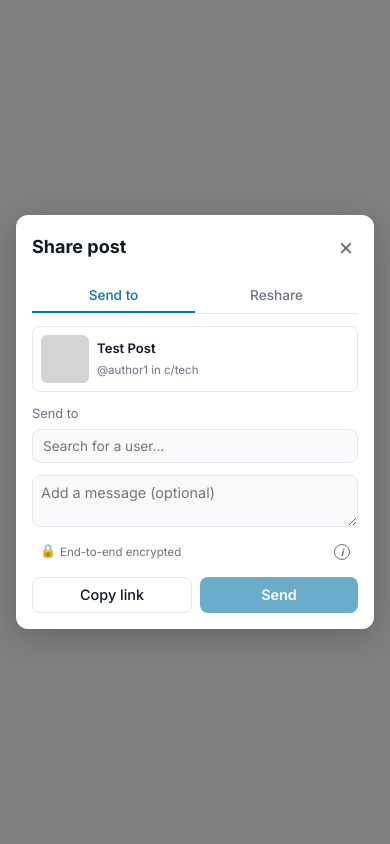
Test: ShareModal › switches to Reshare tab with share form
The width and height of the screenshot is (390, 844).
Click the button "Reshare": (276, 296) 195,279 -> 358,313
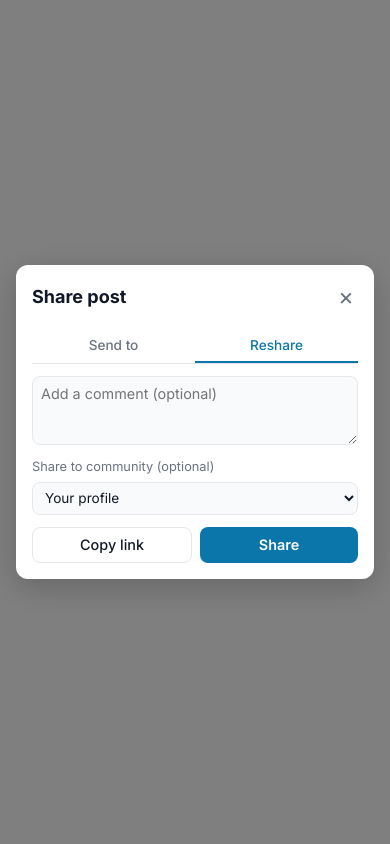
Expected: the text box with placeholder "Add a comment (optional)" is shown, 32,376 -> 358,445
